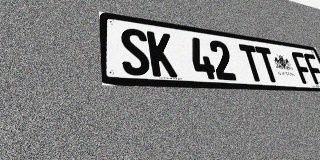2: (208, 39, 237, 80)
4: (188, 36, 217, 79)
F: (290, 51, 315, 84), (303, 53, 320, 85)
K: (147, 31, 178, 78)
S: (119, 27, 151, 76)
T: (238, 44, 266, 82), (255, 46, 281, 83)
